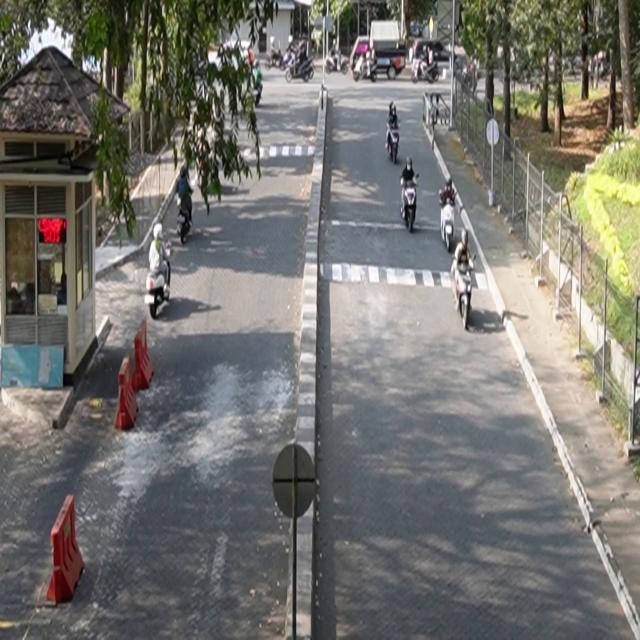truck: (369, 20, 407, 81)
